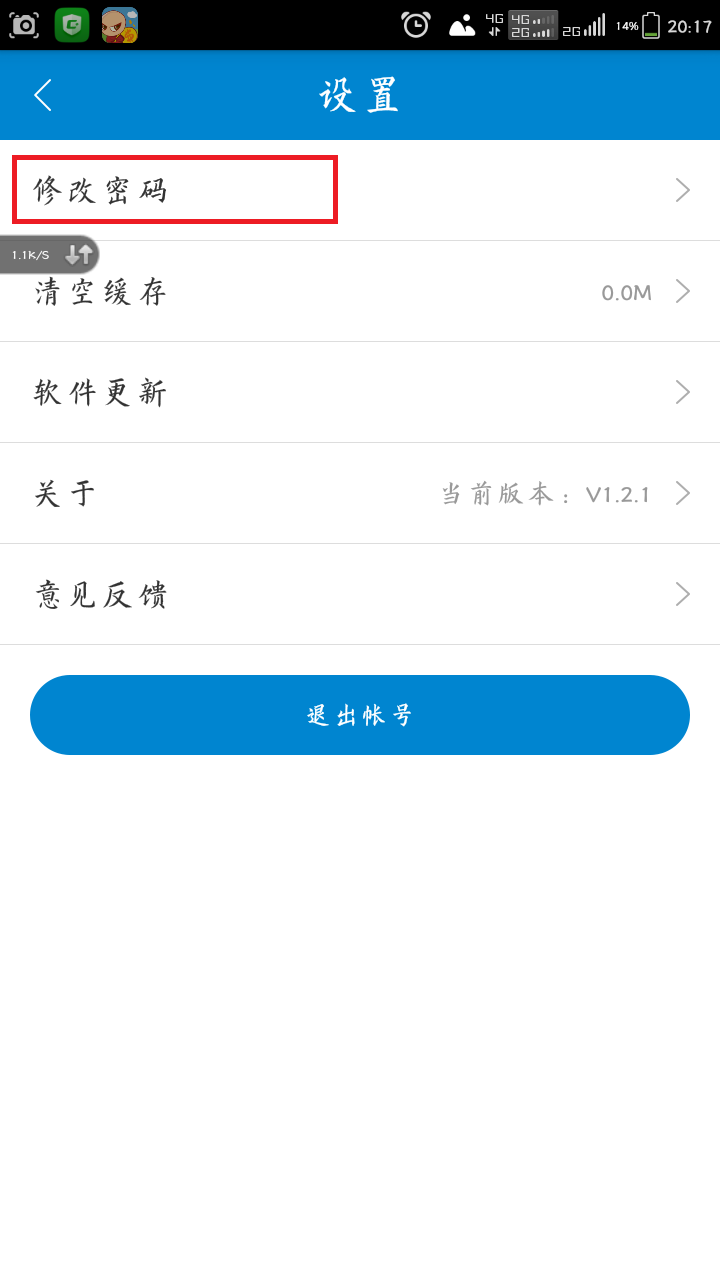button: (1, 433, 718, 549), (2, 334, 720, 449)
